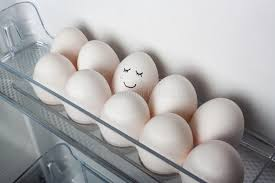eggs: (194, 88, 235, 183), (108, 50, 145, 143), (150, 70, 184, 169), (65, 34, 102, 116), (40, 26, 80, 97)
